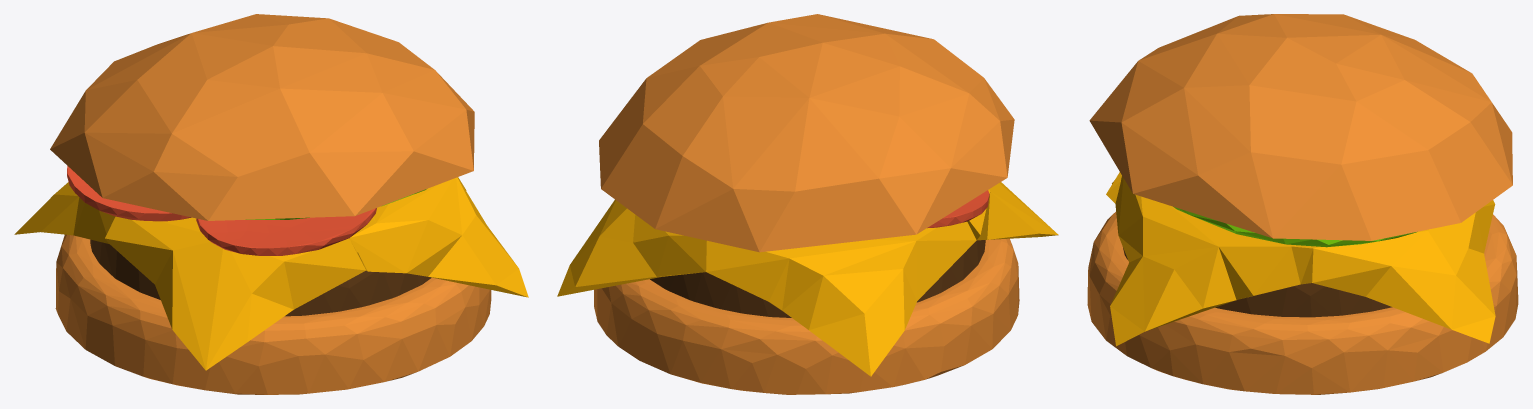
The model's file is Burger.fbx.
The picture shows the model from 3 angles, left to right: view 1: azimuth 30°, elevation 25°; view 2: azimuth 150°, elevation 25°; view 3: azimuth 270°, elevation 25°; orthographic projection. The views are drawn at different scales.
Visible parts, largest first — view 1: Sphere, Plane, Cylinder, Cylinder.007, Cylinder.001, Cylinder.005; view 2: Sphere, Plane, Cylinder, Cylinder.001, Cylinder.005; view 3: Sphere, Plane, Cylinder, Cylinder.001, Cylinder.003.
Part boxes in pixels (x1,y1,x2,y2): Sphere: [50, 14, 474, 220]; Plane: [14, 177, 528, 370]; Cylinder: [55, 234, 491, 394]; Cylinder.007: [196, 208, 376, 255]; Cylinder.001: [90, 239, 431, 316]; Cylinder.005: [67, 166, 191, 221]; Sphere: [599, 14, 1014, 252]; Plane: [557, 182, 1058, 376]; Cylinder: [594, 238, 1019, 394]; Cylinder.001: [650, 240, 985, 317]; Cylinder.005: [927, 190, 989, 228]; Sphere: [1089, 14, 1512, 240]; Plane: [1106, 172, 1495, 346]; Cylinder: [1087, 212, 1518, 394]; Cylinder.001: [1123, 248, 1392, 317]; Cylinder.003: [1173, 206, 1417, 247].
Size of the model in its own units: 199 by 134 by 199.
